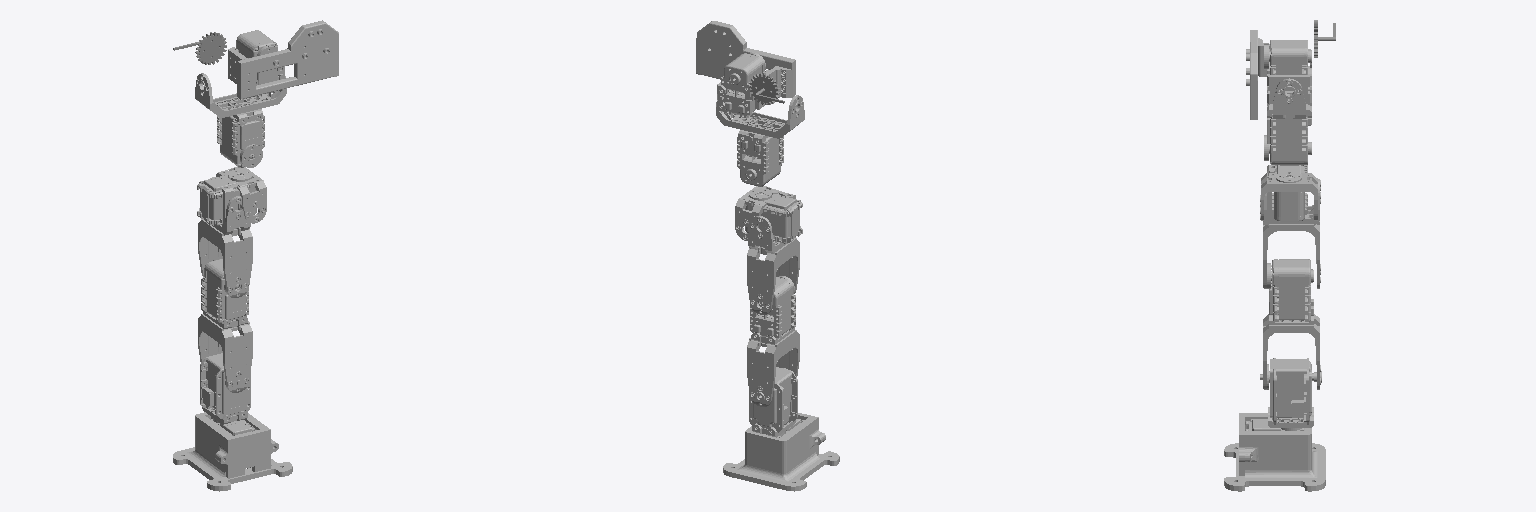
URDF robot description (debug_v3):
<?xml version="1.0" encoding="utf-8"?>
<!-- This URDF was automatically created by SolidWorks to URDF Exporter! Originally created by [author] ([email redacted]) 
     Commit Version: 1.6.0-4-g7f85cfe  Build Version: 1.6.7995.38578
     For more information, please see http://wiki.ros.org/sw_urdf_exporter -->
<robot
  name="debug_v3">
  <link
    name="base_link">
    <inertial>
      <origin
        xyz="-1.15556967099847E-05 0.00118925768958528 0.0196930647546939"
        rpy="0 0 0" />
      <mass
        value="0.112938232092376" />
      <inertia
        ixx="5.07173211713386E-05"
        ixy="-1.03171110832837E-08"
        ixz="1.49332506161966E-09"
        iyy="4.40742840656049E-05"
        iyz="-5.80476571377538E-07"
        izz="6.3336629640883E-05" />
    </inertial>
    <visual>
      <origin
        xyz="0 0 0"
        rpy="0 0 0" />
      <geometry>
        <mesh
          filename="package://debug_v3/meshes/base_link.STL" />
      </geometry>
      <material
        name="">
        <color
          rgba="0.752941176470588 0.752941176470588 0.752941176470588 1" />
      </material>
    </visual>
    <collision>
      <origin
        xyz="0 0 0"
        rpy="0 0 0" />
      <geometry>
        <mesh
          filename="package://debug_v3/meshes/base_link.STL" />
      </geometry>
    </collision>
  </link>
  <link
    name="link_1">
    <inertial>
      <origin
        xyz="0.000485772821628365 0.0281401620008904 0.000261422399570492"
        rpy="0 0 0" />
      <mass
        value="0.0471965611074906" />
      <inertia
        ixx="1.30608718858861E-05"
        ixy="1.16966819725586E-08"
        ixz="-4.74633377970475E-09"
        iyy="8.44973555399669E-06"
        iyz="-3.9350178990899E-07"
        izz="1.06230468830555E-05" />
    </inertial>
    <visual>
      <origin
        xyz="0 0 0"
        rpy="0 0 0" />
      <geometry>
        <mesh
          filename="package://debug_v3/meshes/link_1.STL" />
      </geometry>
      <material
        name="">
        <color
          rgba="0.752941176470588 0.752941176470588 0.752941176470588 1" />
      </material>
    </visual>
    <collision>
      <origin
        xyz="0 0 0"
        rpy="0 0 0" />
      <geometry>
        <mesh
          filename="package://debug_v3/meshes/link_1.STL" />
      </geometry>
    </collision>
  </link>
  <joint
    name="joint_1"
    type="revolute">
    <origin
      xyz="0 0.0134999999999829 0.044999999999981"
      rpy="1.57079632679491 0 0" />
    <parent
      link="base_link" />
    <child
      link="link_1" />
    <axis
      xyz="0 1 0" />
    <limit
      lower="0"
      upper="0"
      effort="0"
      velocity="0" />
  </joint>
  <link
    name="link_2">
    <inertial>
      <origin
        xyz="-0.000153515822108277 0.0681178227164099 0.000128563320317042"
        rpy="0 0 0" />
      <mass
        value="0.0594097865203131" />
      <inertia
        ixx="2.12223785561141E-05"
        ixy="6.95796924569862E-08"
        ixz="1.48970515141856E-09"
        iyy="1.29775182285869E-05"
        iyz="1.90974666491941E-07"
        izz="1.54508471776922E-05" />
    </inertial>
    <visual>
      <origin
        xyz="0 0 0"
        rpy="0 0 0" />
      <geometry>
        <mesh
          filename="package://debug_v3/meshes/link_2.STL" />
      </geometry>
      <material
        name="">
        <color
          rgba="0.752941176470588 0.752941176470588 0.752941176470588 1" />
      </material>
    </visual>
    <collision>
      <origin
        xyz="0 0 0"
        rpy="0 0 0" />
      <geometry>
        <mesh
          filename="package://debug_v3/meshes/link_2.STL" />
      </geometry>
    </collision>
  </link>
  <joint
    name="joint_2"
    type="revolute">
    <origin
      xyz="0.0005 0.0413 0"
      rpy="0 0 0" />
    <parent
      link="link_1" />
    <child
      link="link_2" />
    <axis
      xyz="0 0 1" />
    <limit
      lower="0"
      upper="0"
      effort="0"
      velocity="0" />
  </joint>
  <link
    name="link_3">
    <inertial>
      <origin
        xyz="0.00166607202981678 -0.00116847696462473 -0.0678259992642423"
        rpy="0 0 0" />
      <mass
        value="0.0664459229531185" />
      <inertia
        ixx="1.86377813046774E-05"
        ixy="1.04498368523788E-08"
        ixz="-1.47597003555108E-09"
        iyy="1.92442570748537E-05"
        iyz="2.70604796250515E-07"
        izz="1.90983293883842E-05" />
    </inertial>
    <visual>
      <origin
        xyz="0 0 0"
        rpy="0 0 0" />
      <geometry>
        <mesh
          filename="package://debug_v3/meshes/link_3.STL" />
      </geometry>
      <material
        name="">
        <color
          rgba="0.752941176470588 0.752941176470588 0.752941176470588 1" />
      </material>
    </visual>
    <collision>
      <origin
        xyz="0 0 0"
        rpy="0 0 0" />
      <geometry>
        <mesh
          filename="package://debug_v3/meshes/link_3.STL" />
      </geometry>
    </collision>
  </link>
  <joint
    name="joint_3"
    type="revolute">
    <origin
      xyz="0 0.0934999999999995 0"
      rpy="1.57079634812586 -1.5707963267949 0" />
    <parent
      link="link_2" />
    <child
      link="link_3" />
    <axis
      xyz="1 0 0" />
    <limit
      lower="0"
      upper="0"
      effort="0"
      velocity="0" />
  </joint>
  <link
    name="link_4">
    <inertial>
      <origin
        xyz="-0.000457683349046237 0.0118688810397335 4.42146319556969E-14"
        rpy="0 0 0" />
      <mass
        value="0.00729150361566383" />
      <inertia
        ixx="3.23508453871085E-06"
        ixy="1.35973646814732E-08"
        ixz="1.53350246125296E-17"
        iyy="2.8771256865716E-06"
        iyz="7.49958373740412E-18"
        izz="1.22584099738632E-06" />
    </inertial>
    <visual>
      <origin
        xyz="0 0 0"
        rpy="0 0 0" />
      <geometry>
        <mesh
          filename="package://debug_v3/meshes/link_4.STL" />
      </geometry>
      <material
        name="">
        <color
          rgba="0.752941176470588 0.752941176470588 0.752941176470588 1" />
      </material>
    </visual>
    <collision>
      <origin
        xyz="0 0 0"
        rpy="0 0 0" />
      <geometry>
        <mesh
          filename="package://debug_v3/meshes/link_4.STL" />
      </geometry>
    </collision>
  </link>
  <joint
    name="joint_4"
    type="revolute">
    <origin
      xyz="0.00150000000000139 -0.0147000000000002 -0.0980421856629182"
      rpy="-1.5707963267949 -0.038350163135185 1.5707963267949" />
    <parent
      link="link_3" />
    <child
      link="link_4" />
    <axis
      xyz="0.0383407633384998 -0.999264722616895 0" />
    <limit
      lower="0"
      upper="0"
      effort="0"
      velocity="0" />
  </joint>
  <link
    name="link_5">
    <inertial>
      <origin
        xyz="0.0135026164467685 -0.0575912842693423 -0.00678246219659524"
        rpy="0 0 0" />
      <mass
        value="0.138553940465744" />
      <inertia
        ixx="3.31503177896995E-05"
        ixy="2.28743954315E-06"
        ixz="-8.84170731726553E-09"
        iyy="4.77411880069028E-05"
        iyz="-1.76563698498907E-08"
        izz="6.02362266330215E-05" />
    </inertial>
    <visual>
      <origin
        xyz="0 0 0"
        rpy="0 0 0" />
      <geometry>
        <mesh
          filename="package://debug_v3/meshes/link_5.STL" />
      </geometry>
      <material
        name="">
        <color
          rgba="0.752941176470588 0.752941176470588 0.752941176470588 1" />
      </material>
    </visual>
    <collision>
      <origin
        xyz="0 0 0"
        rpy="0 0 0" />
      <geometry>
        <mesh
          filename="package://debug_v3/meshes/link_5.STL" />
      </geometry>
    </collision>
  </link>
  <joint
    name="joint_5"
    type="revolute">
    <origin
      xyz="-0.00103358317962125 0.0269379928659016 0"
      rpy="3.14159265358978 0 0.0383501418042174" />
    <parent
      link="link_4" />
    <child
      link="link_5" />
    <axis
      xyz="0 0 -1" />
    <limit
      lower="0"
      upper="0"
      effort="0"
      velocity="0" />
  </joint>
  <link
    name="link_6">
    <inertial>
      <origin
        xyz="-1.04526498567736E-10 0.00085661990394513 -0.00287702638778907"
        rpy="0 0 0" />
      <mass
        value="0.0020958490501563" />
      <inertia
        ixx="1.69148588871096E-07"
        ixy="7.73156938507941E-16"
        ixz="6.13784958432653E-16"
        iyy="1.34729433251577E-07"
        iyz="2.53562912642492E-08"
        izz="2.29391666178704E-07" />
    </inertial>
    <visual>
      <origin
        xyz="0 0 0"
        rpy="0 0 0" />
      <geometry>
        <mesh
          filename="package://debug_v3/meshes/link_6.STL" />
      </geometry>
      <material
        name="">
        <color
          rgba="0.627450980392157 0.627450980392157 0.627450980392157 1" />
      </material>
    </visual>
    <collision>
      <origin
        xyz="0 0 0"
        rpy="0 0 0" />
      <geometry>
        <mesh
          filename="package://debug_v3/meshes/link_6.STL" />
      </geometry>
    </collision>
  </link>
  <joint
    name="joint_6"
    type="revolute">
    <origin
      xyz="0.0172499980162202 -0.093000000367959 -0.0209999999999997"
      rpy="0 0 -1.57079634812587" />
    <parent
      link="link_5" />
    <child
      link="link_6" />
    <axis
      xyz="0 0 1" />
    <limit
      lower="0"
      upper="0"
      effort="0"
      velocity="0" />
  </joint>
</robot>

--- Render facts (derived) ---
3 views of the same robot in one strip: view 1: azimuth 30°, elevation 25°; view 2: azimuth 150°, elevation 25°; view 3: azimuth 270°, elevation 25° (orthographic).
Model debug_v3 with 7 links and 6 joints (6 revolute), rooted at base_link, posed all joints at 0.
Links seen in each view (by area): view 1: link_5, base_link, link_3, link_2, link_1, link_4, link_6; view 2: link_5, link_3, base_link, link_2, link_1, link_4, link_6; view 3: link_5, base_link, link_2, link_3, link_1, link_4.
Link boxes in pixels (bbox=[...]): link_5: bbox=[195, 20, 338, 167]; base_link: bbox=[173, 412, 292, 491]; link_3: bbox=[197, 169, 256, 297]; link_2: bbox=[198, 259, 252, 392]; link_1: bbox=[200, 353, 250, 424]; link_4: bbox=[216, 166, 266, 223]; link_6: bbox=[173, 32, 226, 64]; link_5: bbox=[696, 21, 804, 186]; link_3: bbox=[745, 188, 802, 314]; base_link: bbox=[723, 413, 839, 491]; link_2: bbox=[747, 276, 799, 406]; link_1: bbox=[749, 367, 797, 437]; link_4: bbox=[735, 186, 781, 240]; link_6: bbox=[749, 73, 784, 104]; link_5: bbox=[1246, 30, 1311, 164]; base_link: bbox=[1224, 413, 1325, 491]; link_2: bbox=[1263, 259, 1321, 389]; link_3: bbox=[1263, 165, 1320, 288]; link_1: bbox=[1260, 358, 1313, 427]; link_4: bbox=[1260, 173, 1317, 220].
Size in the robot's own frame: 0.1409 by 0.0935 by 0.4254 metres.
7 mesh visuals loaded from 7 distinct referenced files (7 binary STL).